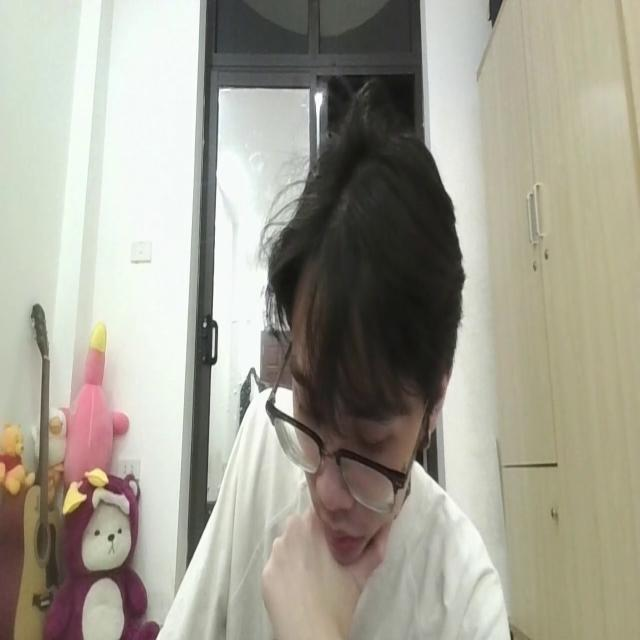student: (167, 90, 512, 640)
